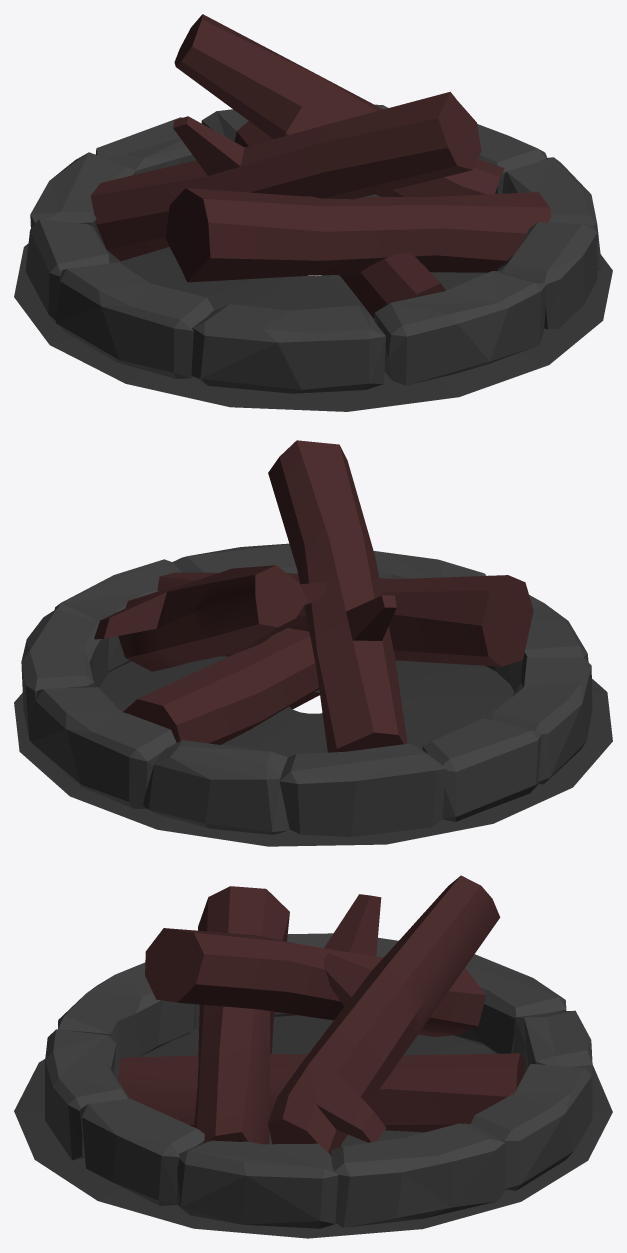
The model's file is campfire.glb.
3 renders of one model, top to bottom at view 1: azimuth 30°, elevation 25°; view 2: azimuth 150°, elevation 25°; view 3: azimuth 270°, elevation 25°, orthographic.
Visible parts, largest first — view 1: Cube, Cylinder.003, Cylinder.001, base, Cylinder.002, Cylinder; view 2: Cube, Cylinder.001, base, Cylinder.002, Cylinder.003, Cylinder; view 3: Cube, Cylinder.002, Cylinder.001, base, Cylinder, Cylinder.003.
Boxes of the visible parts, x1,y1,x2,y2 form: Cube: (25, 104, 601, 393); Cylinder.003: (165, 188, 551, 282); Cylinder.001: (91, 91, 481, 261); base: (14, 194, 612, 411); Cylinder.002: (174, 14, 504, 197); Cylinder: (234, 121, 445, 319); Cube: (21, 543, 592, 836); Cylinder.001: (268, 440, 407, 752); base: (14, 656, 612, 846); Cylinder.002: (94, 565, 327, 671); Cylinder.003: (157, 572, 533, 666); Cylinder: (123, 628, 319, 744); Cube: (45, 933, 594, 1228); Cylinder.002: (268, 875, 500, 1156); Cylinder.001: (145, 894, 485, 1036); base: (14, 1015, 612, 1238); Cylinder: (118, 1053, 525, 1132); Cylinder.003: (194, 886, 289, 1144).
Bounding box in the file's own units: 19.15 × 8.04 × 19.15.
